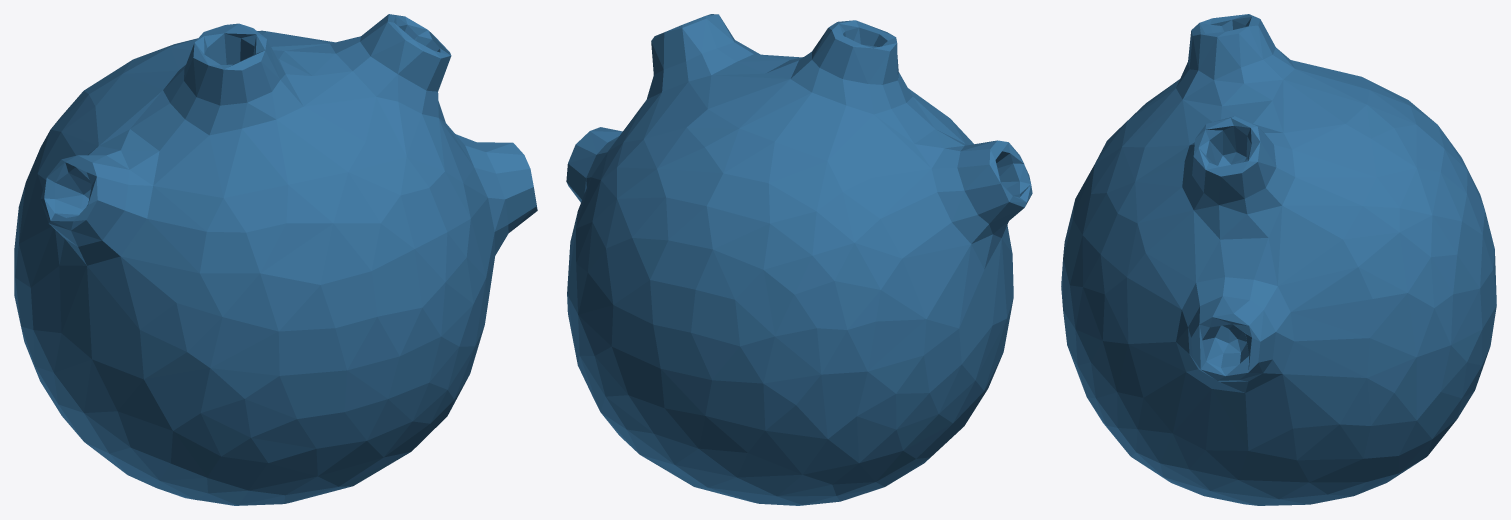
Rendered from Asteroid7.gltf.
3 renders of one model, left to right at view 1: azimuth 30°, elevation 25°; view 2: azimuth 150°, elevation 25°; view 3: azimuth 270°, elevation 25°, orthographic. The views are drawn at different scales.
Visible parts, largest first — view 1: Asteroid7; view 2: Asteroid7; view 3: Asteroid7.
Part boxes in pixels (x1=…): Asteroid7: x1=14, y1=14, x2=537, y2=505; Asteroid7: x1=566, y1=14, x2=1032, y2=505; Asteroid7: x1=1061, y1=14, x2=1496, y2=505.
Bounding box in the file's own units: 1.89 × 1.8 × 1.6.
